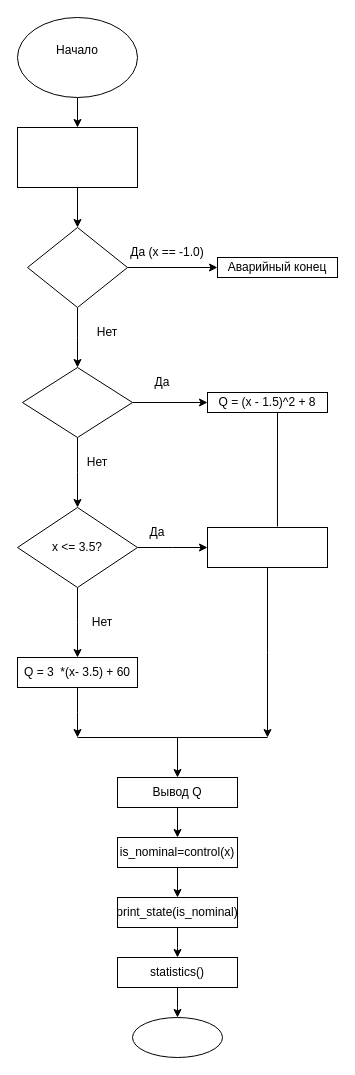
This 355x1075 diagram has some shape labels left out. Each missing label, with the centre of its shape:
Q = 2 * sqrt(x - 0.5) + 42: the point at 267,547
x < 0?: the point at 77,267
x < 1.5?: the point at 77,402
x = read_input(): the point at 77,157
